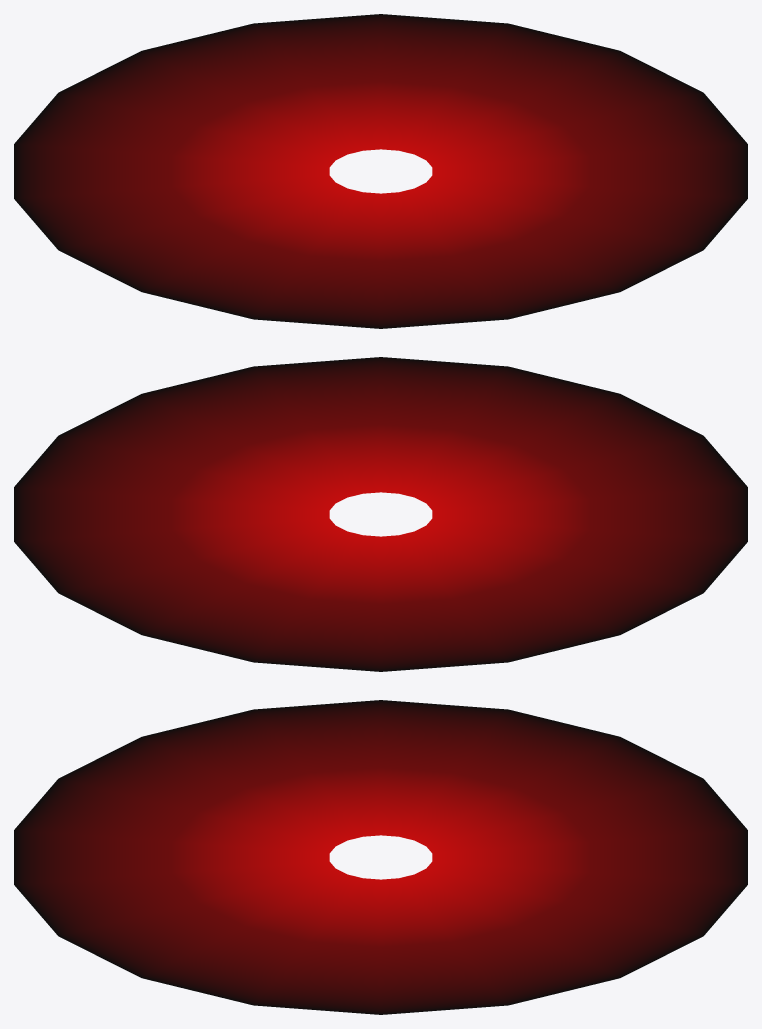
The model's file is SM_Ripple_2.FBX.
3 renders of one model, top to bottom at view 1: azimuth 30°, elevation 25°; view 2: azimuth 150°, elevation 25°; view 3: azimuth 270°, elevation 25°, orthographic.
Parts seen in each view (by area): view 1: SM_Ripple; view 2: SM_Ripple; view 3: SM_Ripple.
Part boxes in pixels (x1=…): SM_Ripple: x1=14, y1=14, x2=747, y2=328; SM_Ripple: x1=14, y1=357, x2=747, y2=671; SM_Ripple: x1=14, y1=700, x2=747, y2=1014.
Bounding box in the file's own units: 60 × 3.62e-15 × 59.09.
